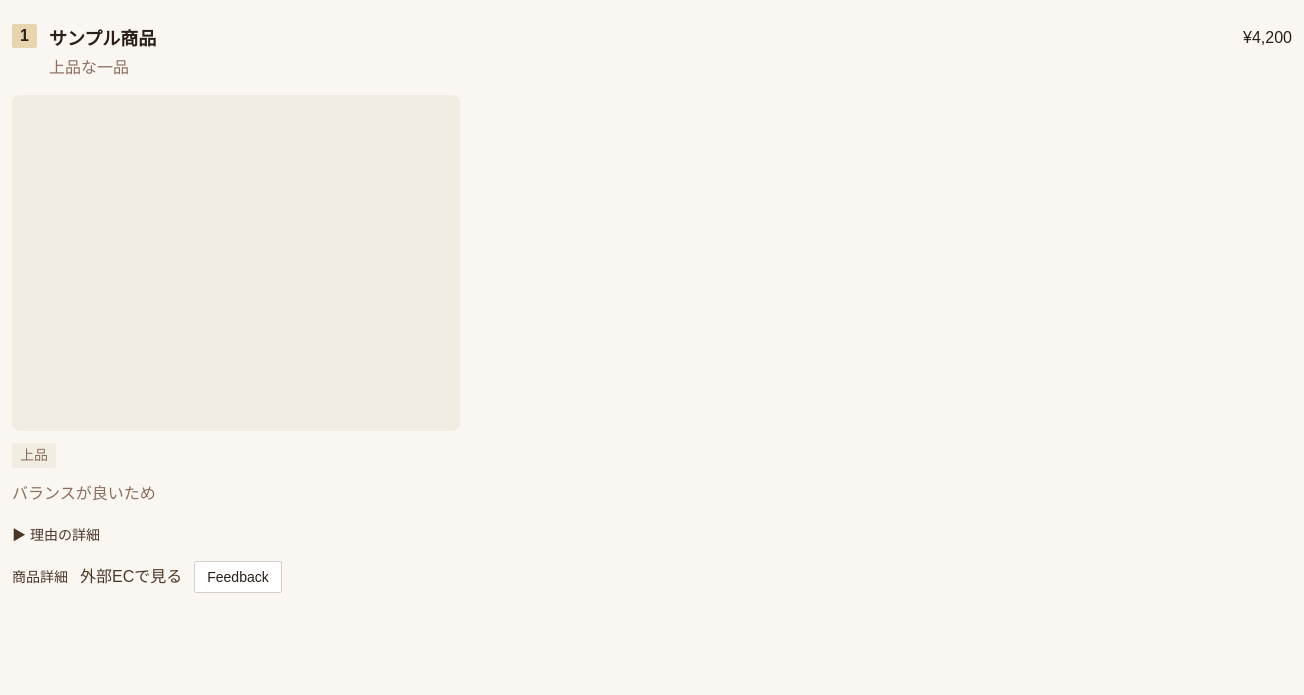
Test: RecommendationResultItem (SCR-004 / SCR-005) › toggles reason detail accordion
This screenshot has width=1304, height=695.
Click the button "▶ 理由の詳細" at (56, 535), box [12, 525, 100, 546]
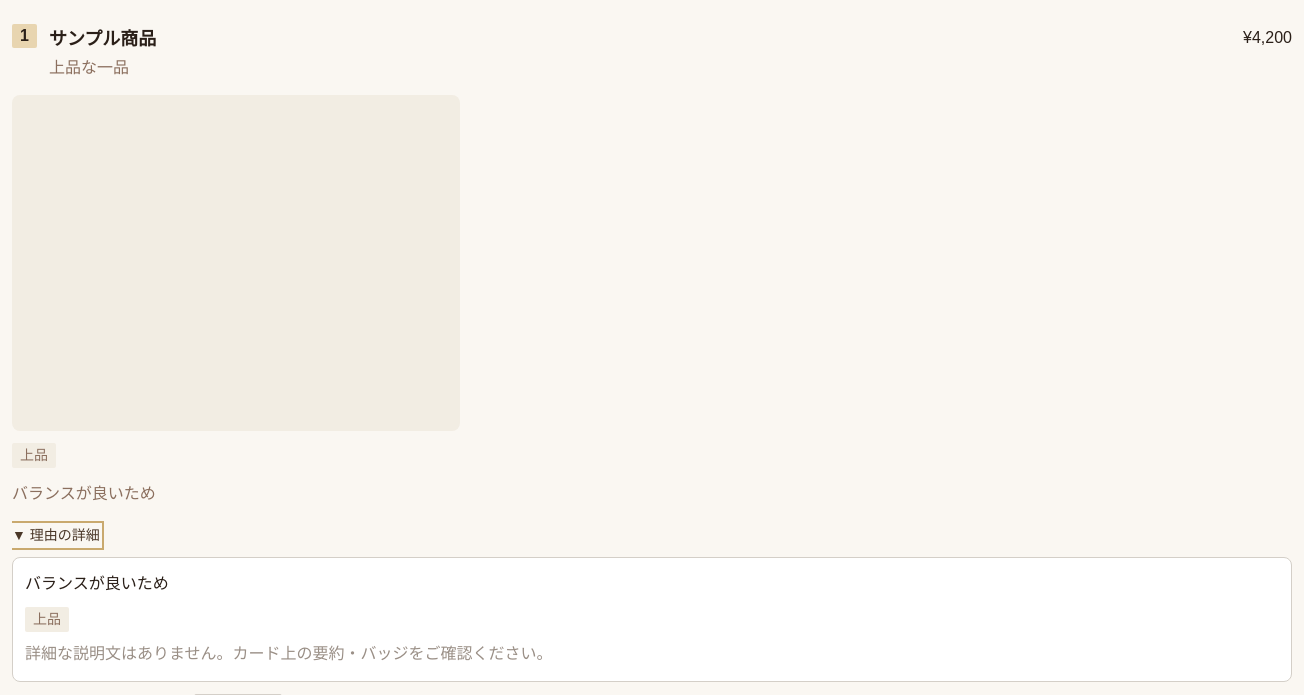
Expected: the button "▼ 理由の詳細" is expanded, [12, 525, 100, 546]
Expected: the text "詳細な説明文はありません。カード上の要約・バッジをご確認ください。" is shown, [25, 645, 552, 662]
